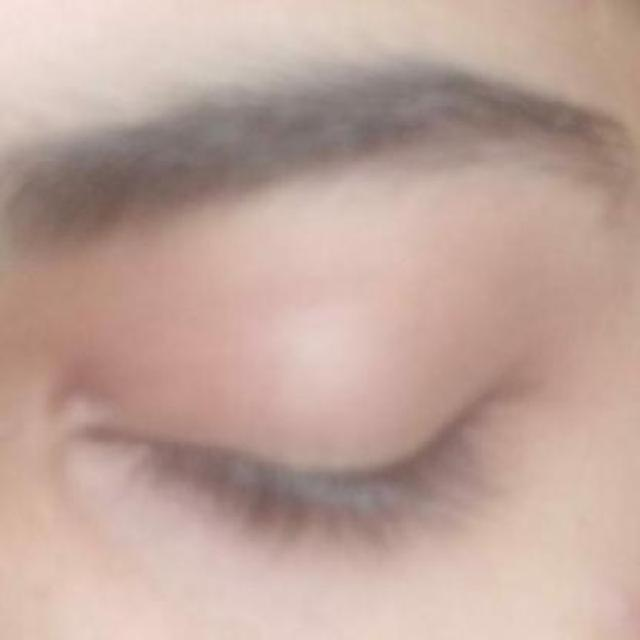drowsy: (77, 304, 508, 578)
